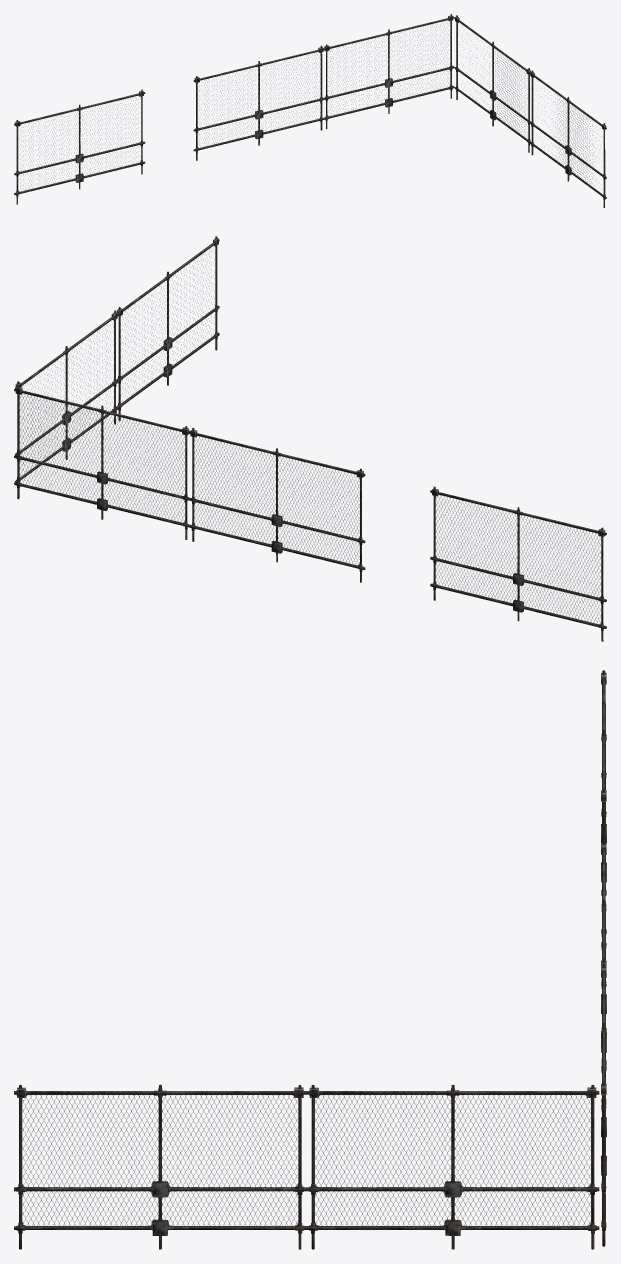
The model's file is fence.glb.
The picture shows the model from 3 angles, top to bottom: view 1: azimuth 30°, elevation 25°; view 2: azimuth 150°, elevation 25°; view 3: azimuth 270°, elevation 25°; orthographic projection. The views are drawn at different scales.
Parts seen in each view (by area): view 1: Fance_4_fance_0; view 2: Fance_4_fance_0; view 3: Fance_4_fance_0.
Boxes of the visible parts, x1,y1,x2,y2 form: Fance_4_fance_0: [14, 14, 606, 207]; Fance_4_fance_0: [14, 236, 606, 641]; Fance_4_fance_0: [14, 670, 606, 1249].
Size of the model in its own units: 19.19 by 3.5 by 11.49.
Materials: 1 (1 with a texture image).
